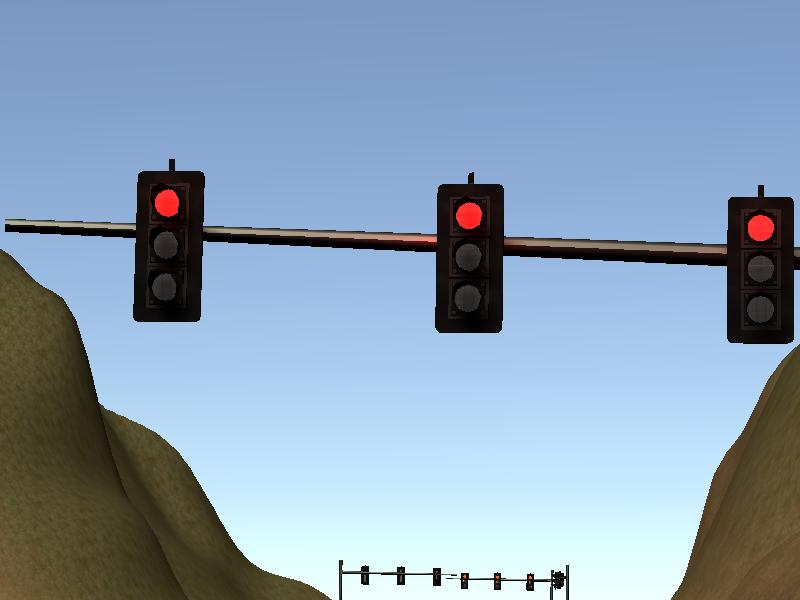red: (435, 183, 505, 336), (725, 192, 795, 345), (134, 167, 202, 324)
